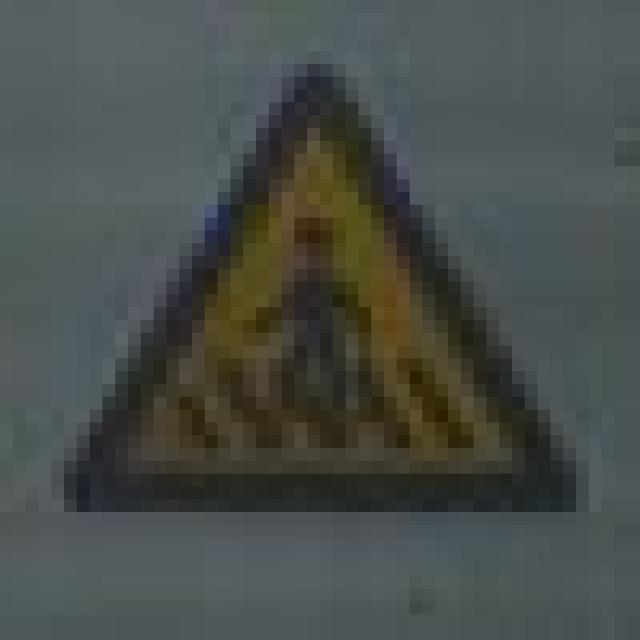pass_either_side: (51, 38, 576, 500)
